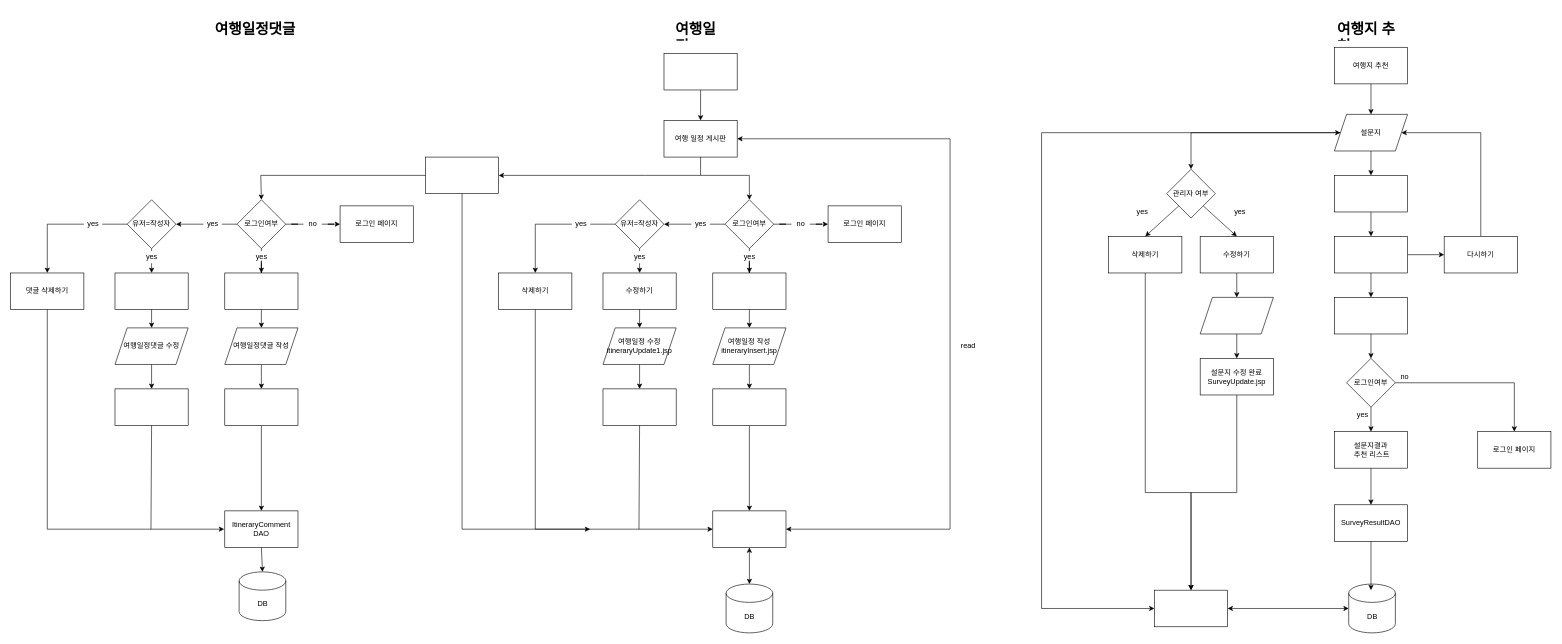
This 1562x644 diagram has some shape labels left out. Here are the shapes that lost their labels. From the top down, the centre of each, then its label:
pixel 700 71: 여행일정만들기
pixel 462 175: 상세페이지
pixel 1371 193: 제출
pixel 1371 254: 추천리스트
pixel 151 291: 댓글 수정하기
pixel 261 291: 댓글 작성하기
pixel 749 291: 작성하기
pixel 1236 315: 설문지 수정 SurveyUpdate1.jsp
pixel 1371 315: 결과저장
pixel 151 406: 여행일정댓글 수정 완료
pixel 261 406: 여행일정댓글 등록
pixel 639 406: 여행일정 수정 완료 ItineraryUpdate2.jsp
pixel 749 406: 여행 일정 등록
pixel 749 528: ItineraryDAO
pixel 1191 608: SurveyDAO
